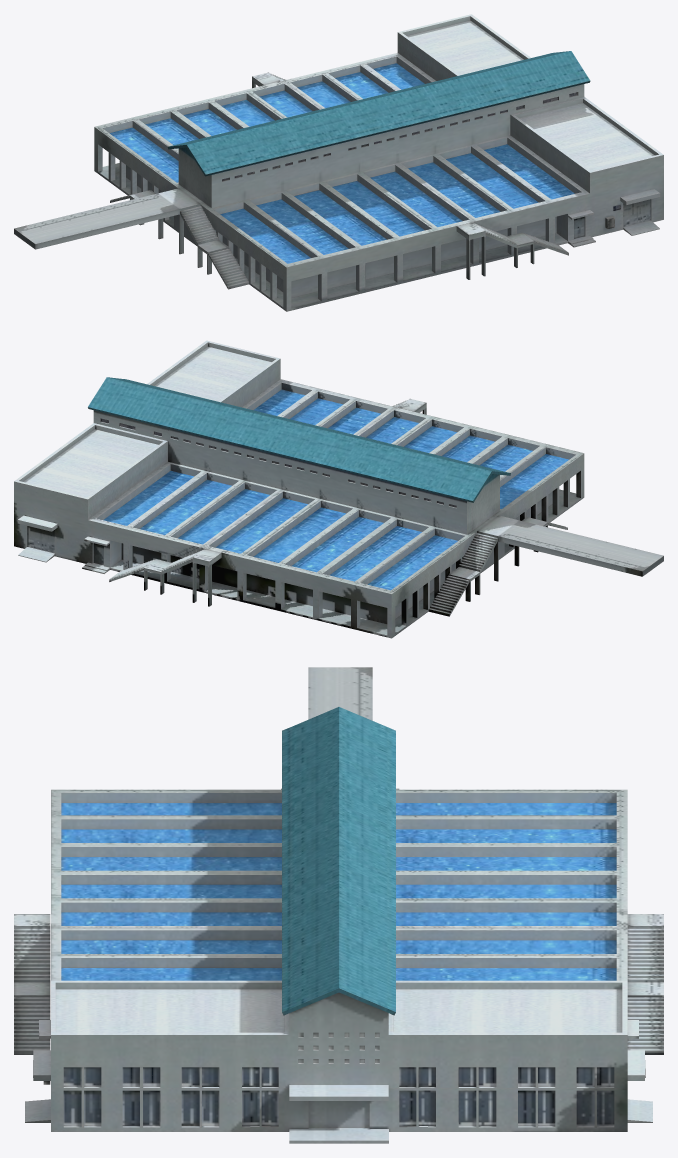
The model's file is build8YNSCYQ.glb.
3 renders of one model, top to bottom at view 1: azimuth 30°, elevation 25°; view 2: azimuth 150°, elevation 25°; view 3: azimuth 270°, elevation 25°, orthographic. The views are drawn at different scales.
Visible parts, largest first — view 1: bulid8YNSCYQ; view 2: bulid8YNSCYQ; view 3: bulid8YNSCYQ.
Boxes of the visible parts, box(x1,y1,x2,y2) form: bulid8YNSCYQ: box(14, 14, 663, 311); bulid8YNSCYQ: box(14, 340, 663, 638); bulid8YNSCYQ: box(14, 667, 663, 1143).
Bounding box in the file's own units: 4902 × 826 × 3295.
1 material, 1 textured.
